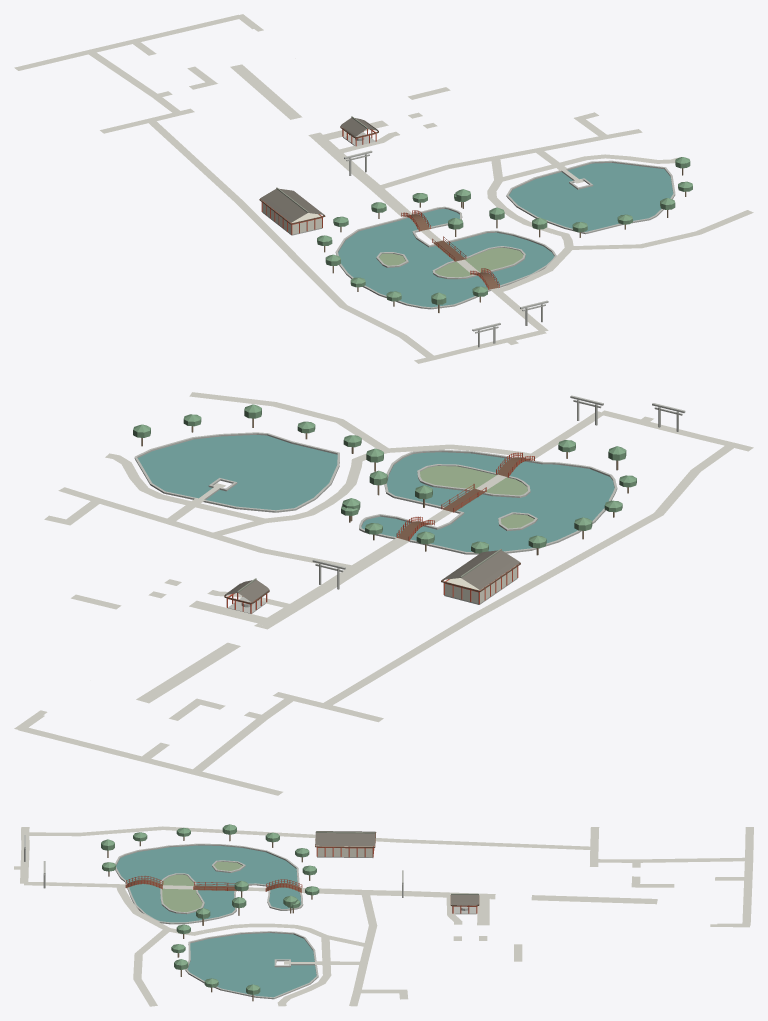
3 views of the same model, one above another, from view 1: azimuth 30°, elevation 25°; view 2: azimuth 150°, elevation 25°; view 3: azimuth 270°, elevation 25° (orthographic). The views are drawn at different scales.
Visible parts, largest first — view 1: dazaifu-tenmangu-entrance-garden; view 2: dazaifu-tenmangu-entrance-garden; view 3: dazaifu-tenmangu-entrance-garden.
Boxes of the visible parts, x1=… form: dazaifu-tenmangu-entrance-garden: x1=14, y1=14, x2=753, y2=363; dazaifu-tenmangu-entrance-garden: x1=14, y1=392, x2=753, y2=795; dazaifu-tenmangu-entrance-garden: x1=14, y1=824, x2=753, y2=1006.
Size of the model in its own units: 138 by 6.96 by 240.
